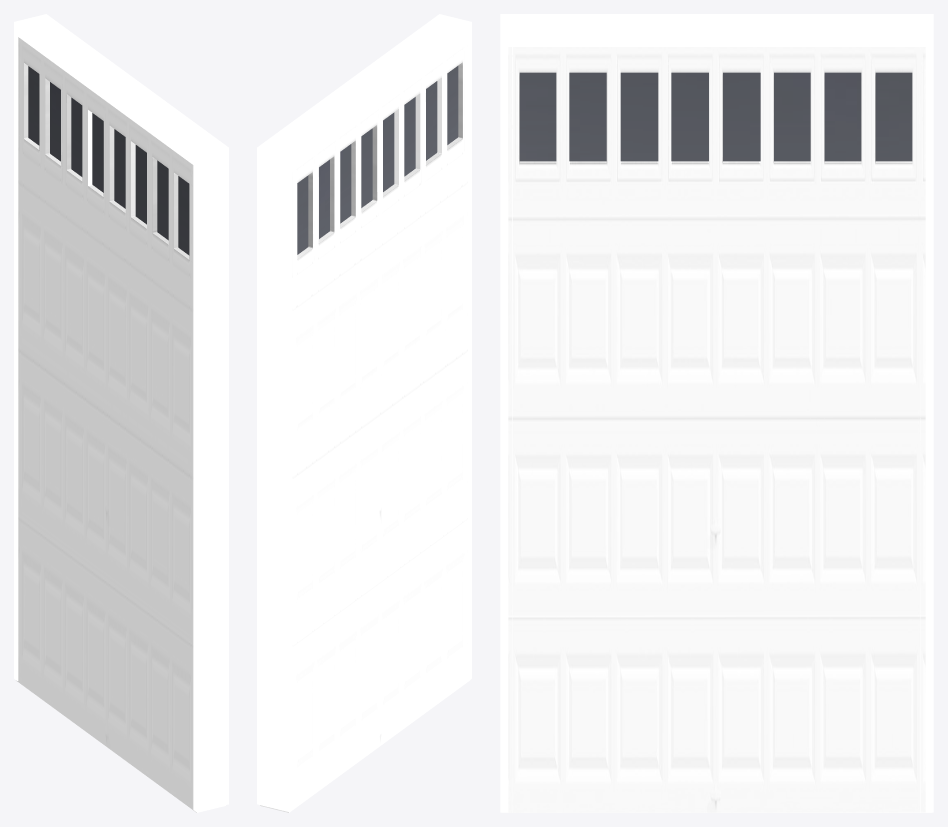
File: sectional_with_window_door.94557115.gltf
3 views of the same model, side by side, from view 1: azimuth 30°, elevation 25°; view 2: azimuth 150°, elevation 25°; view 3: azimuth 270°, elevation 25° (orthographic). The views are drawn at different scales.
Visible parts, largest first — view 1: Plane, trim, Glass; view 2: Plane, trim, Glass; view 3: Plane, trim, Glass.
Part boxes in pixels (<box>): Plane: <box>16,37,225,812</box>; trim: <box>14,14,228,812</box>; Glass: <box>28,66,189,255</box>; Plane: <box>260,37,469,812</box>; trim: <box>257,14,471,812</box>; Glass: <box>297,66,458,254</box>; Plane: <box>502,47,931,812</box>; trim: <box>500,14,933,812</box>; Glass: <box>519,72,912,161</box>.
Size of the model in its own units: 0.3092 by 6.01 by 3.02.
3 materials, 2 textured.
